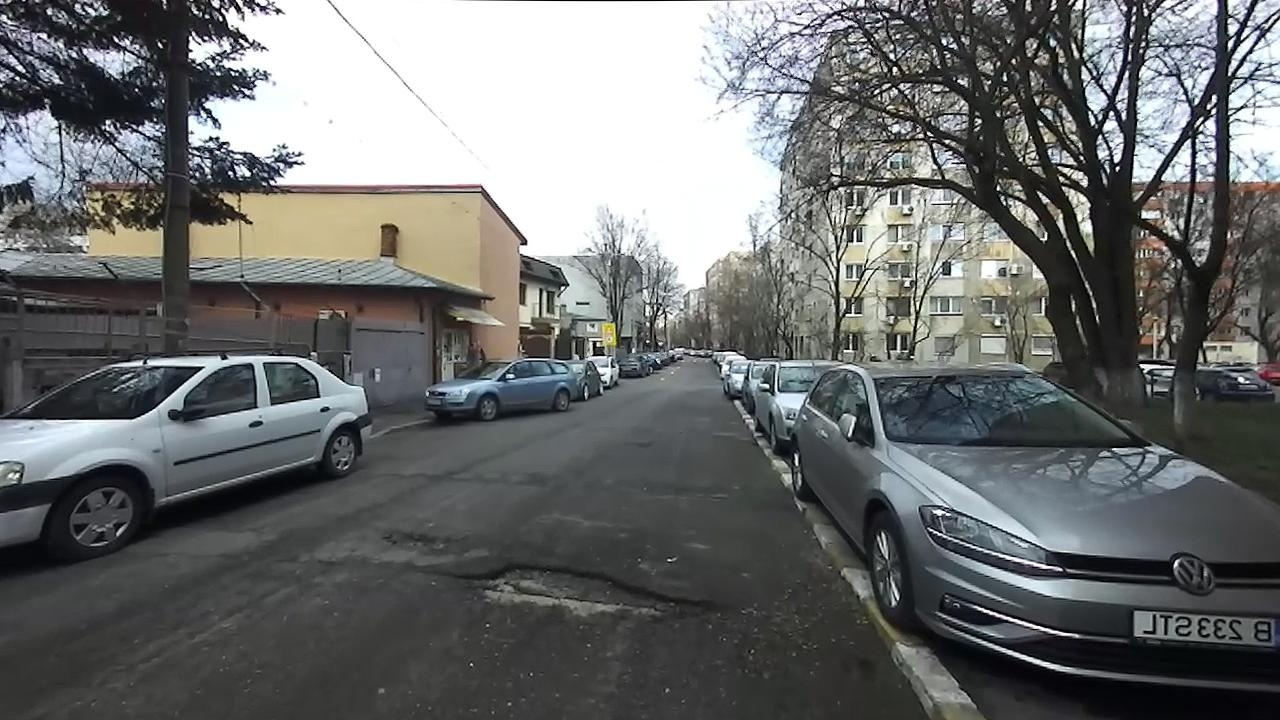pothole: (437, 558, 730, 627), (373, 523, 470, 557)
